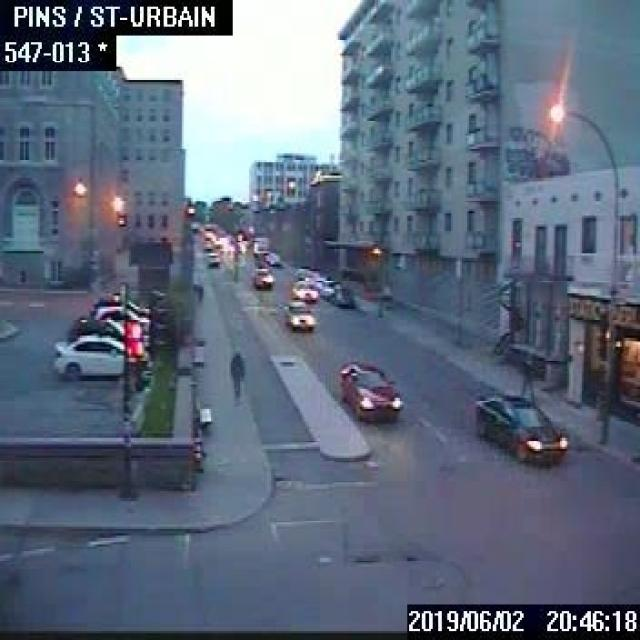pedestrian: (227, 349, 242, 398)
vehicle: (473, 392, 567, 461), (53, 332, 151, 378), (338, 358, 401, 420), (67, 314, 152, 354), (89, 292, 150, 315), (93, 303, 149, 328), (282, 298, 315, 329), (313, 275, 349, 303), (289, 276, 318, 302), (253, 266, 271, 286), (263, 251, 280, 265), (205, 250, 219, 264), (304, 268, 318, 280), (294, 266, 307, 277)
